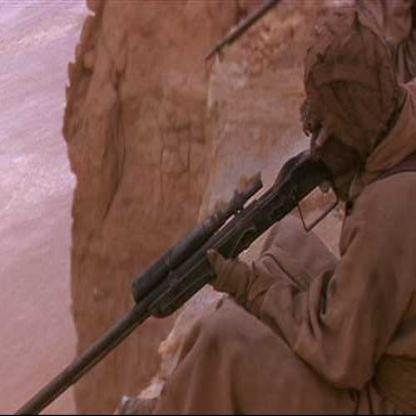rifle: (11, 124, 369, 415)
